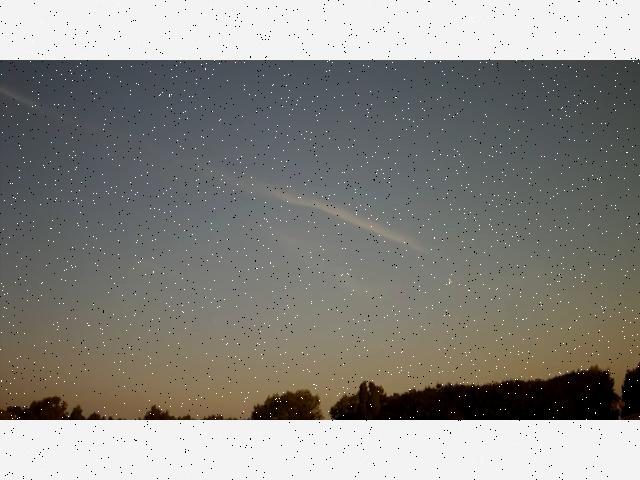Anti-Drone: (443, 275, 457, 286)
